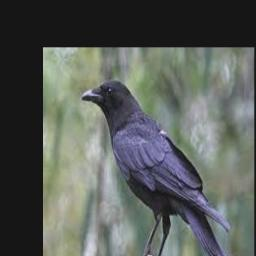Crow: (82, 79, 232, 256)
